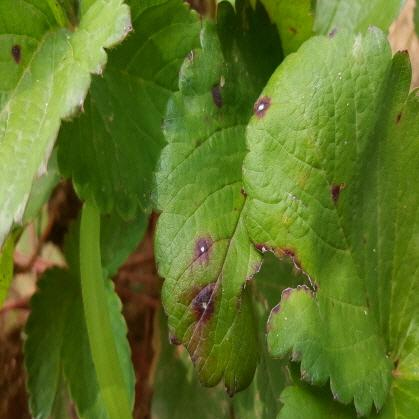Leaf Spot: (241, 23, 418, 418), (150, 0, 284, 398), (0, 0, 133, 252)
